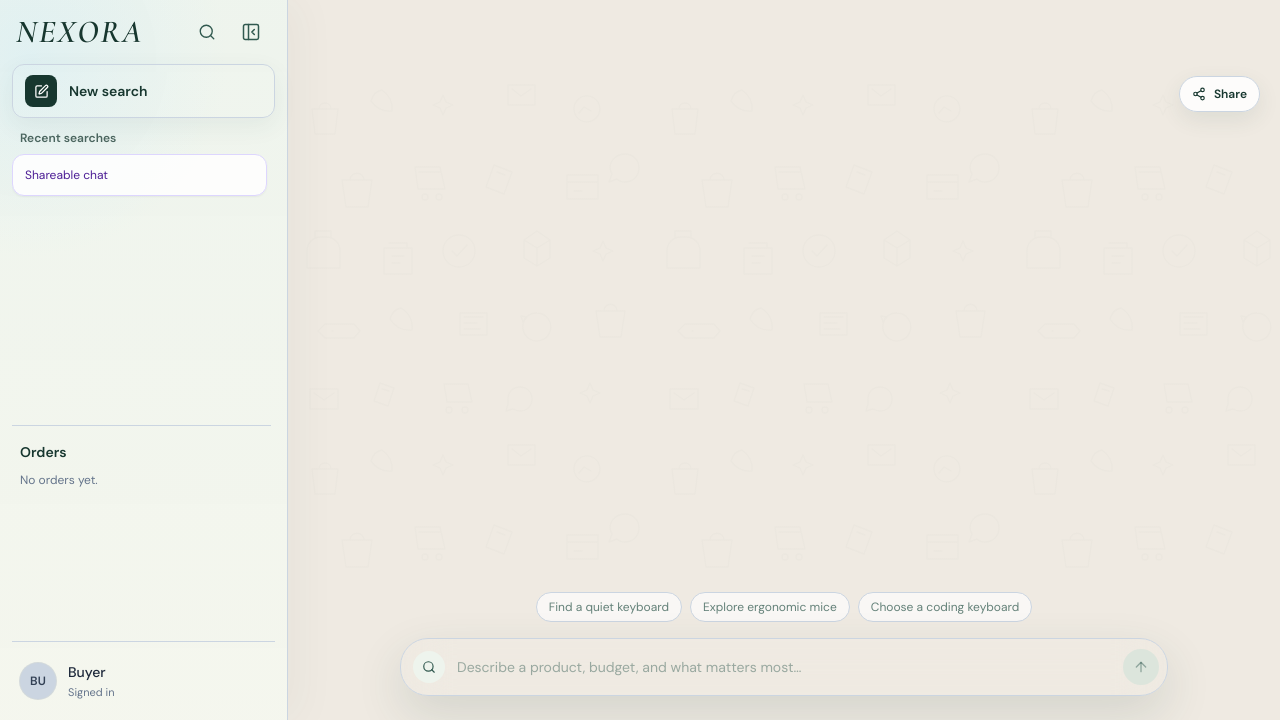
live buyer search › copies a public share link for the current signed-in chat
Click the button with aria-label "Share current chat": (1219, 94) [1179,76,1260,112]
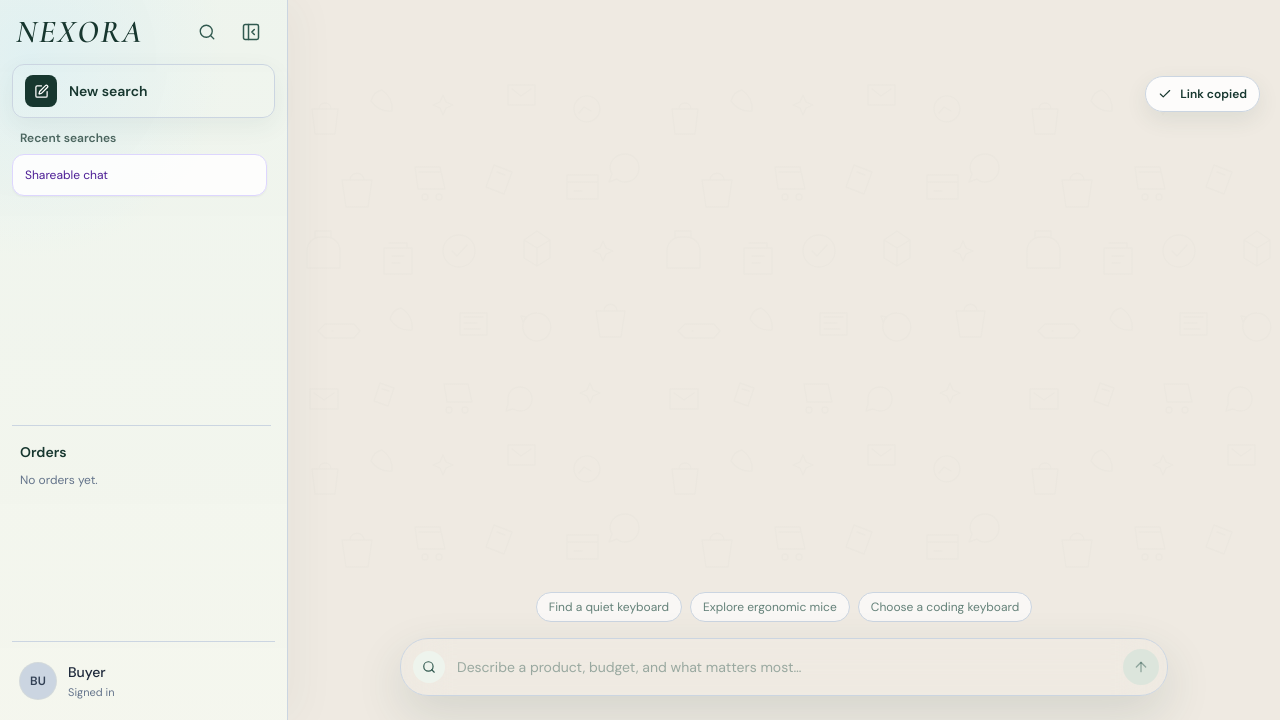
Expected: the button with aria-label "Share link copied" is shown, [1145,76,1260,112]
